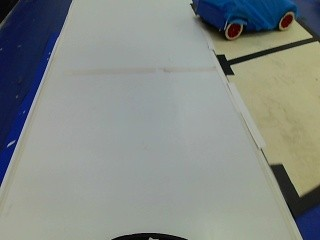car: (191, 0, 301, 42)
